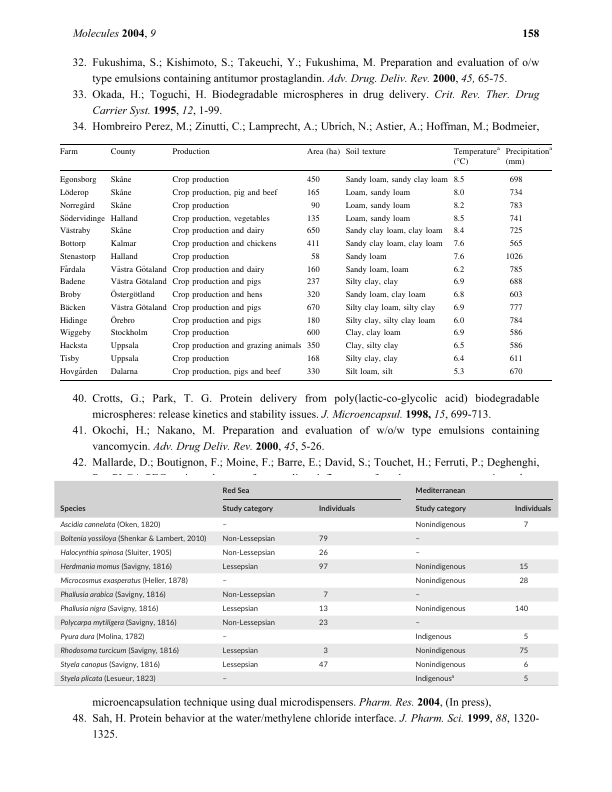borderless: (59, 142, 552, 380), (52, 480, 559, 687)
cell: (59, 533, 206, 545), (59, 575, 188, 587), (59, 645, 179, 657), (59, 617, 177, 629), (59, 547, 172, 559), (59, 561, 172, 573), (171, 341, 302, 351), (59, 589, 166, 601), (59, 519, 160, 531), (59, 659, 160, 671), (59, 603, 158, 615), (59, 673, 156, 685), (171, 367, 281, 377), (452, 145, 501, 167), (504, 145, 553, 167), (171, 188, 278, 198), (171, 239, 277, 249), (344, 176, 449, 186), (59, 631, 144, 643), (171, 214, 270, 224), (344, 227, 443, 237), (344, 239, 443, 249), (171, 227, 265, 237), (171, 265, 265, 275), (171, 290, 263, 300), (344, 303, 436, 313), (344, 316, 436, 326), (171, 278, 262, 288), (171, 303, 262, 313), (171, 316, 262, 326), (344, 290, 426, 300), (344, 188, 411, 198), (344, 201, 411, 211), (344, 214, 411, 224), (414, 484, 465, 497), (344, 265, 409, 275), (221, 533, 275, 545), (221, 547, 275, 559), (221, 589, 275, 601), (221, 617, 275, 629), (221, 503, 273, 515), (414, 503, 466, 515), (414, 519, 466, 531), (414, 561, 466, 573), (414, 575, 466, 587), (414, 603, 466, 615), (414, 645, 466, 657), (414, 659, 466, 671), (171, 176, 230, 186), (171, 201, 230, 211), (171, 252, 230, 262), (171, 329, 230, 339), (171, 354, 230, 364), (109, 265, 167, 275), (109, 278, 167, 288), (109, 303, 167, 313), (344, 329, 401, 339), (344, 341, 399, 351), (344, 278, 398, 288), (344, 354, 398, 364), (414, 672, 454, 685), (109, 289, 155, 300), (344, 367, 393, 377), (59, 214, 106, 224), (414, 631, 452, 643), (221, 561, 258, 573), (221, 603, 258, 615), (221, 645, 258, 657), (221, 659, 258, 671), (344, 252, 387, 262), (344, 147, 386, 157), (171, 147, 210, 157), (109, 329, 148, 339), (59, 367, 98, 377), (59, 176, 97, 186), (221, 484, 250, 497), (59, 252, 96, 262), (59, 201, 95, 211), (306, 147, 341, 157), (59, 329, 92, 339), (59, 503, 86, 515), (59, 227, 91, 237), (109, 314, 135, 326), (317, 505, 355, 513), (513, 505, 551, 513), (59, 188, 89, 198), (109, 341, 139, 351), (109, 354, 139, 364), (109, 214, 138, 224), (109, 252, 138, 262), (59, 316, 88, 326), (59, 341, 88, 351), (109, 367, 138, 377), (109, 239, 137, 249), (109, 147, 136, 157), (59, 239, 86, 249), (59, 265, 86, 275), (59, 278, 86, 288), (59, 303, 86, 313), (109, 175, 132, 186), (109, 226, 132, 237), (109, 188, 132, 198), (109, 201, 132, 211), (59, 290, 82, 300), (59, 354, 80, 364), (58, 147, 78, 157), (504, 252, 523, 262), (508, 176, 523, 186), (508, 188, 523, 198), (508, 201, 523, 211), (508, 214, 523, 224), (508, 227, 523, 237), (508, 239, 523, 249), (508, 265, 523, 275), (508, 278, 523, 288), (508, 290, 523, 300), (508, 303, 523, 313), (508, 316, 523, 326), (508, 329, 523, 339), (508, 341, 523, 351), (508, 354, 523, 364), (508, 367, 523, 377), (306, 176, 320, 186), (306, 188, 320, 198), (306, 214, 320, 224), (306, 227, 320, 237), (306, 239, 320, 249), (306, 265, 320, 275), (306, 278, 320, 288), (306, 290, 320, 300), (306, 303, 320, 313), (306, 316, 320, 326), (306, 329, 320, 339), (306, 341, 320, 351), (306, 354, 320, 364), (306, 367, 320, 377), (317, 533, 328, 545), (317, 547, 328, 559), (317, 561, 328, 573), (452, 176, 465, 186), (452, 188, 465, 198), (452, 201, 465, 211), (452, 214, 465, 224), (452, 227, 465, 237), (452, 239, 465, 249), (452, 252, 465, 262), (452, 265, 465, 275), (452, 278, 465, 288), (452, 290, 465, 300), (452, 303, 465, 313), (452, 316, 465, 326), (452, 329, 465, 339), (452, 341, 465, 351), (452, 354, 465, 364), (452, 367, 465, 377), (513, 606, 528, 613), (310, 201, 320, 211), (310, 252, 320, 262), (317, 606, 328, 613), (317, 620, 328, 627), (317, 662, 328, 669), (522, 659, 528, 671), (518, 564, 528, 571), (518, 578, 528, 585), (518, 648, 528, 655), (221, 522, 227, 529), (522, 522, 528, 529), (414, 536, 420, 543), (414, 550, 420, 557), (221, 578, 227, 585), (322, 592, 328, 599), (414, 592, 420, 599), (414, 620, 420, 627), (221, 634, 227, 641), (522, 634, 528, 641), (322, 648, 328, 655), (221, 676, 227, 683), (522, 676, 528, 683)
